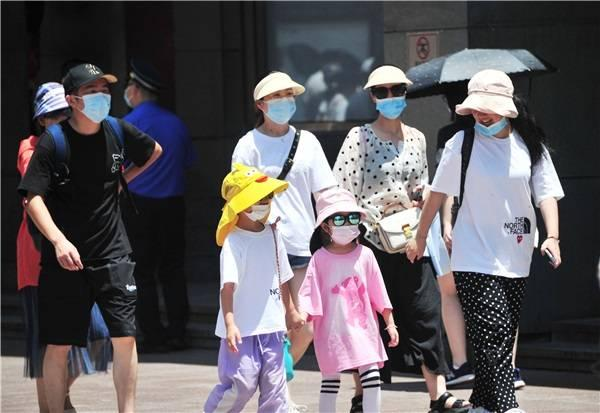mask: (371, 68, 410, 124), (260, 75, 303, 125), (76, 69, 115, 122), (326, 199, 363, 246)
